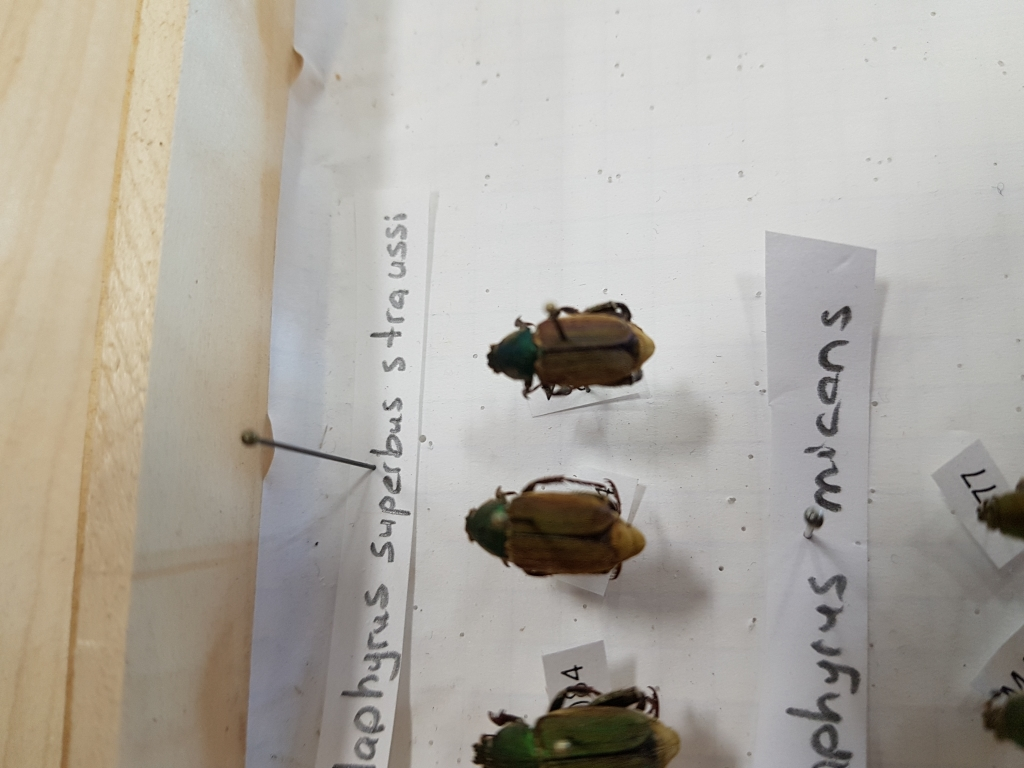Glaphyrus_superbus: (474, 289, 680, 415)
